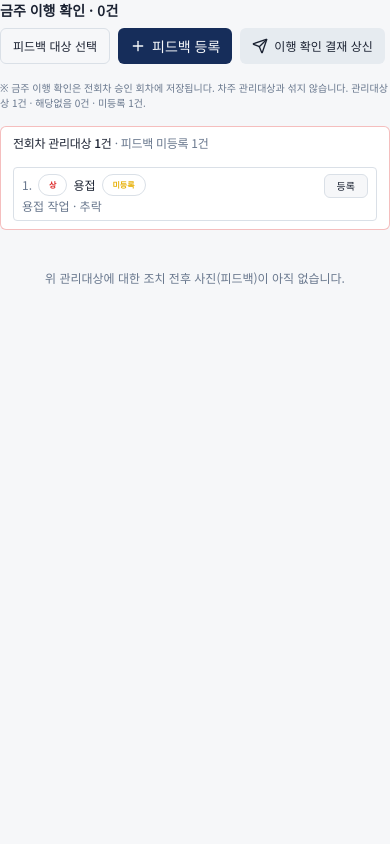
Test: FeedbackPanel auto targets › lets a manager uncheck 자동(관리대상) and save 해당없음
Click the button "피드백 대상 선택".
click(55, 46)  # box [0,28,110,64]
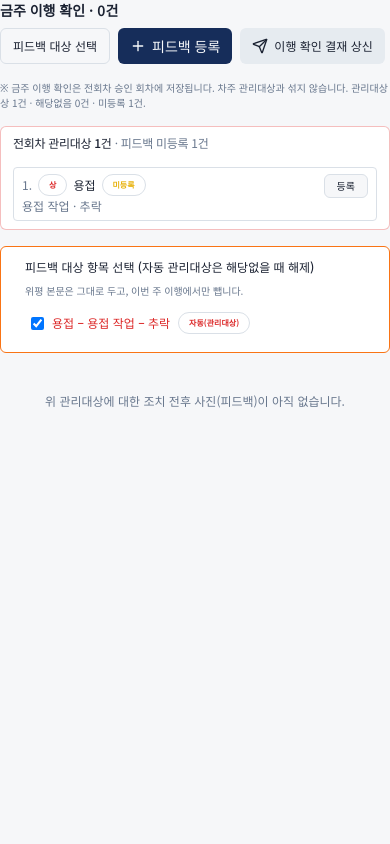
Expected: the checkbox with test id "feedback-target-h1" is shown
Expected: the checkbox with test id "feedback-target-h1" is enabled
Expected: the checkbox with test id "feedback-target-h1" is checked
Click the checkbox with test id "feedback-target-h1".
click(38, 323)  # box [31,316,44,330]
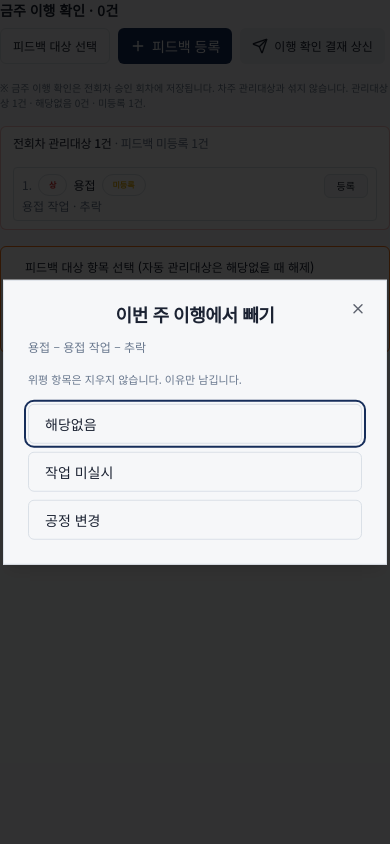
Expected: the dialog with test id "feedback-exclude-reason" is shown, [3,280,387,564]
Click the button with test id "feedback-exclude-해당없음".
click(71, 423)  # box [28,403,362,443]
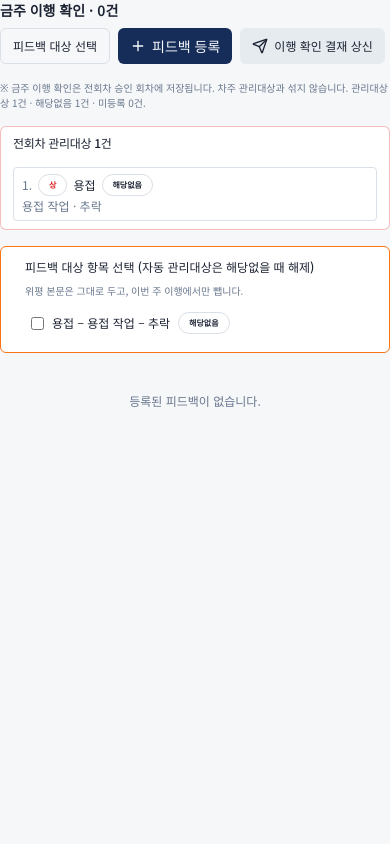
Expected: the text "해당없음" below "전회차 관리대상" is shown, [112,179,142,190]
